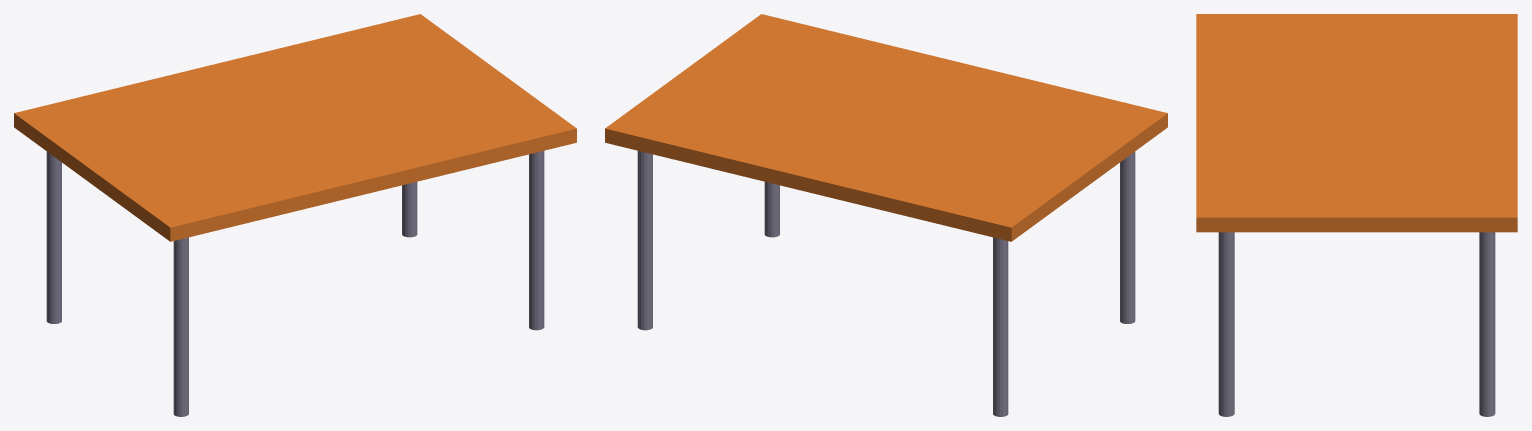
Rendered from mesa.dae.
3 views of the same model, side by side, from view 1: azimuth 30°, elevation 25°; view 2: azimuth 150°, elevation 25°; view 3: azimuth 270°, elevation 25° (orthographic). The views are drawn at different scales.
Parts seen in each view (by area): view 1: Mesa; view 2: Mesa; view 3: Mesa.
Boxes of the visible parts, x1,y1,x2,y2 form: Mesa: (14,14,576,416); Mesa: (605,14,1167,416); Mesa: (1196,14,1517,416).
Size of the model in its own units: 2.4 by 1.6 by 1.15.
